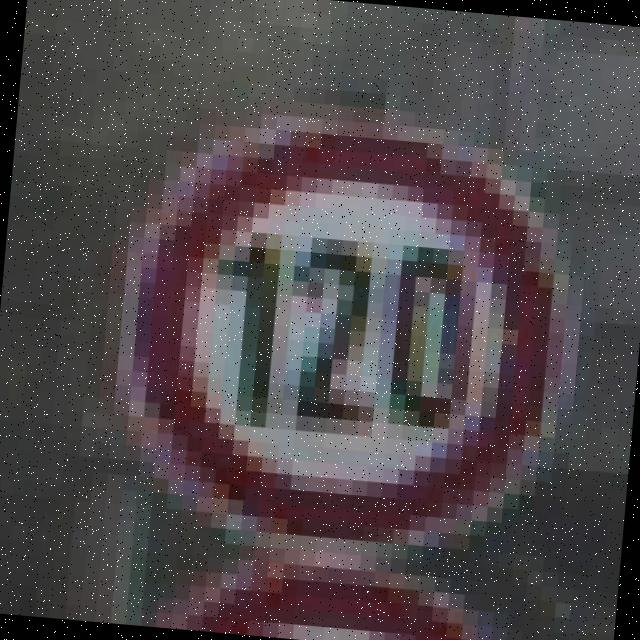Ograniczenie predkosci do 120: (109, 100, 585, 566)
